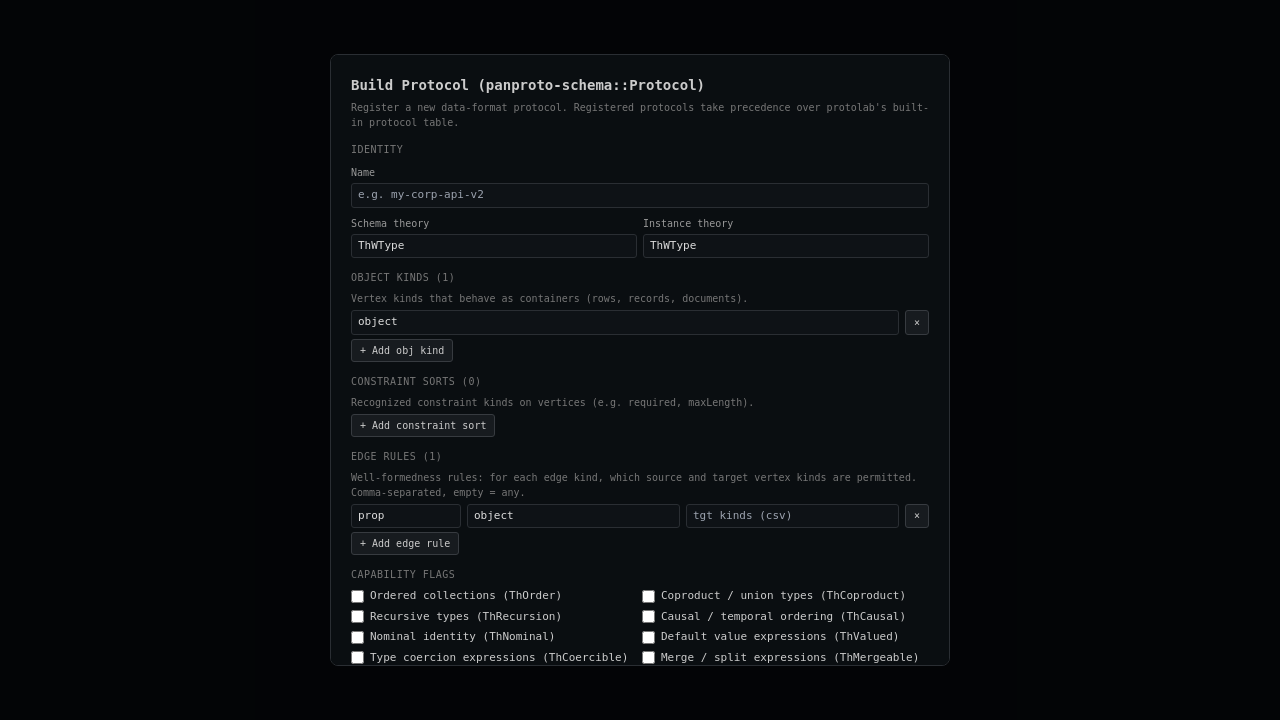
Test case: ProtocolEditor › add obj kind / remove obj kind
expect the text "Object kinds (1)" is shown: met, box [351,272,455,283]
Click the button "+ Add obj kind".
click(402, 350)  # box [351,338,453,362]
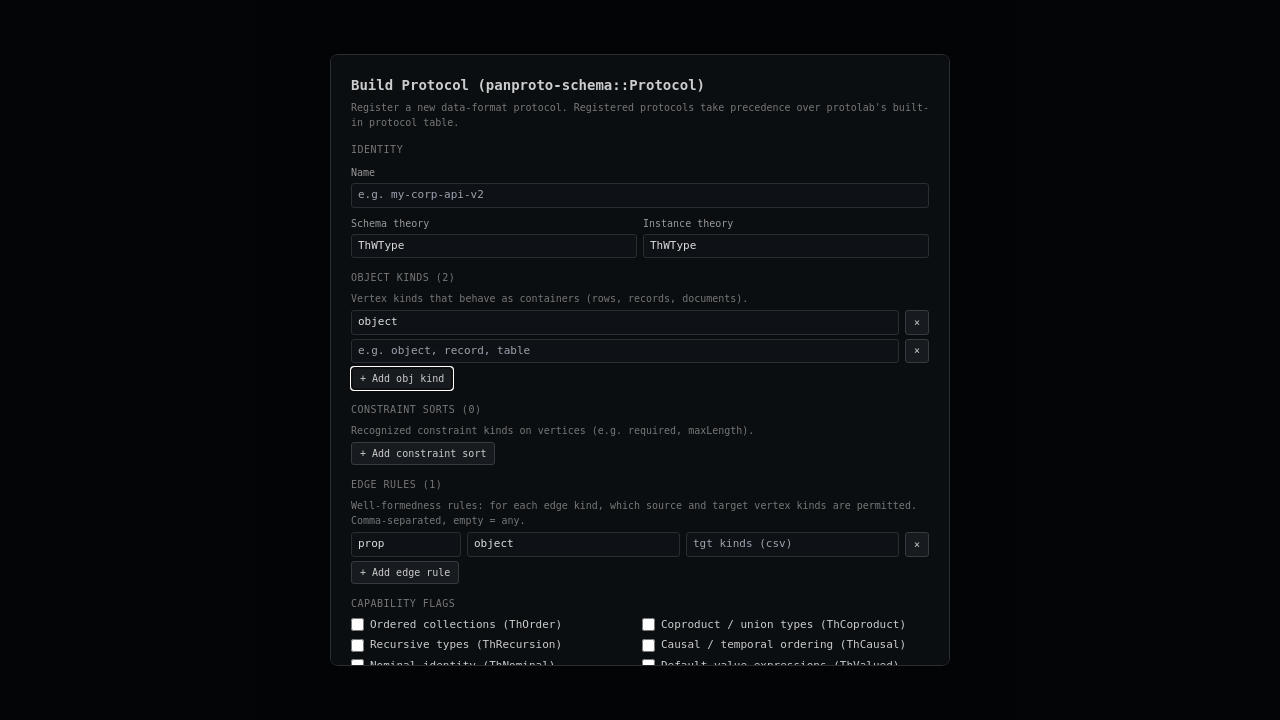
expect the text "Object kinds (2)" is shown: met, box [351,272,455,283]
